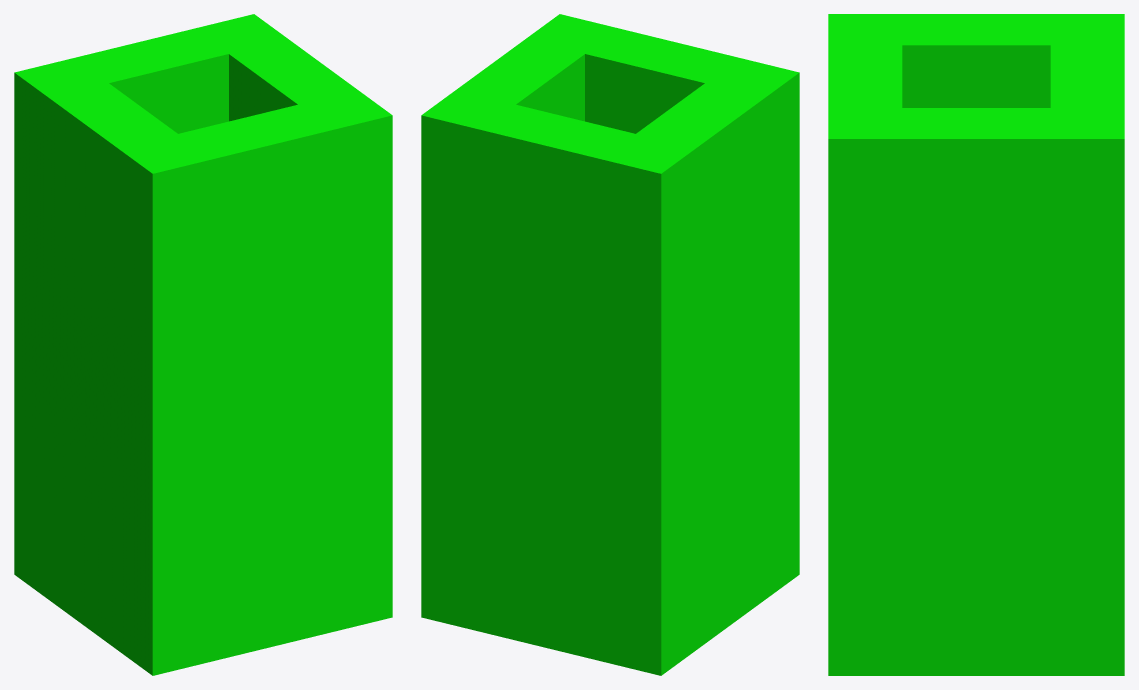
3 views of the same model, side by side, from view 1: azimuth 30°, elevation 25°; view 2: azimuth 150°, elevation 25°; view 3: azimuth 270°, elevation 25° (orthographic). The views are drawn at different scales.
Visible parts, largest first — view 1: Union1; view 2: Union1; view 3: Union1.
Boxes of the visible parts, x1,y1,x2,y2 form: Union1: (14,14,392,675); Union1: (421,14,799,675); Union1: (828,14,1124,675).
Bounding box in the file's own units: 5 × 10 × 5.
